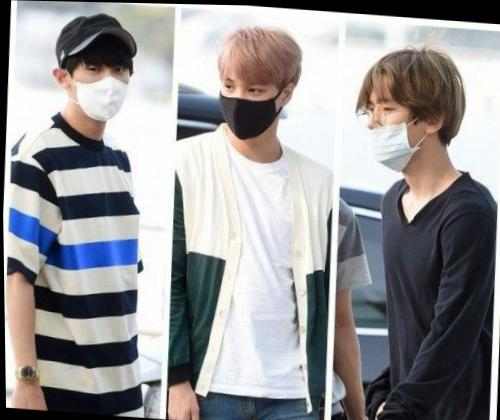OK: (65, 54, 137, 126), (215, 72, 283, 140)
WRONG: (357, 88, 441, 172)
